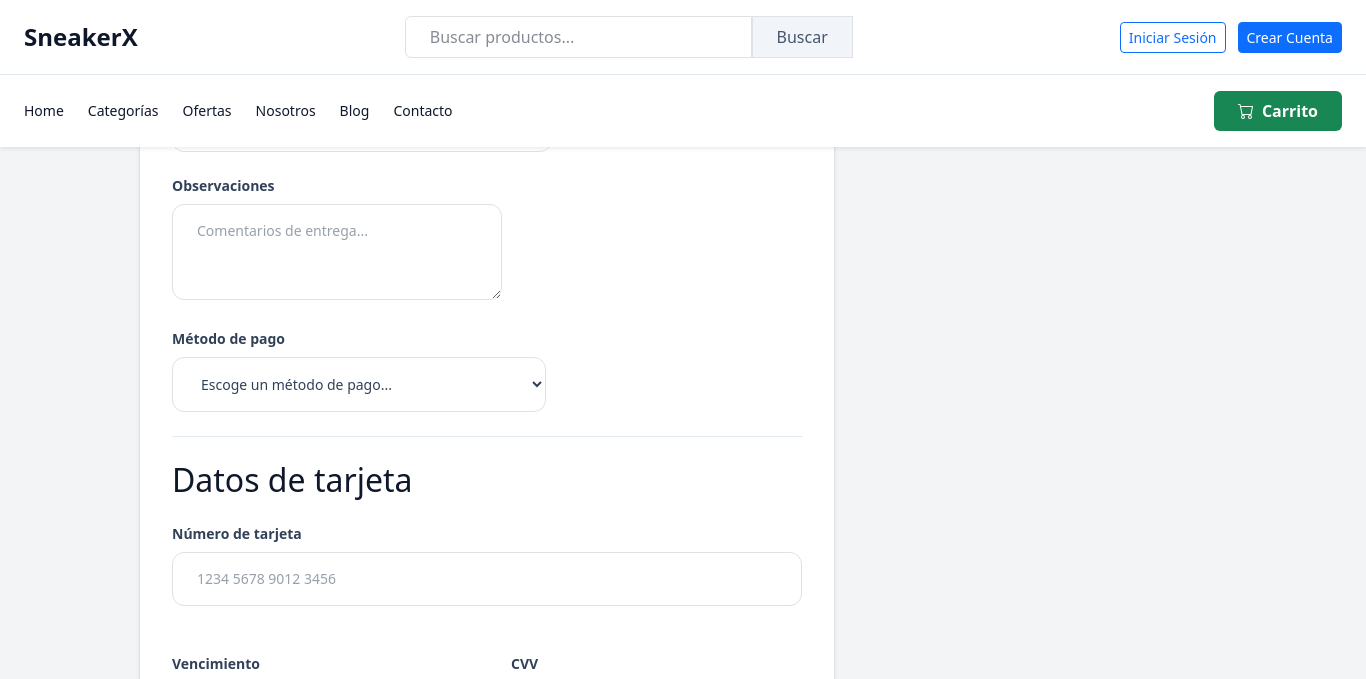
Scenario: pago y boleta › no registra una compra cuando el carrito está vacío
(page scrolled)
Step 1. Select "Débito" in the dropdown labelled "Método de pago" → (359, 385), box [172,357,546,412]
(page scrolled)
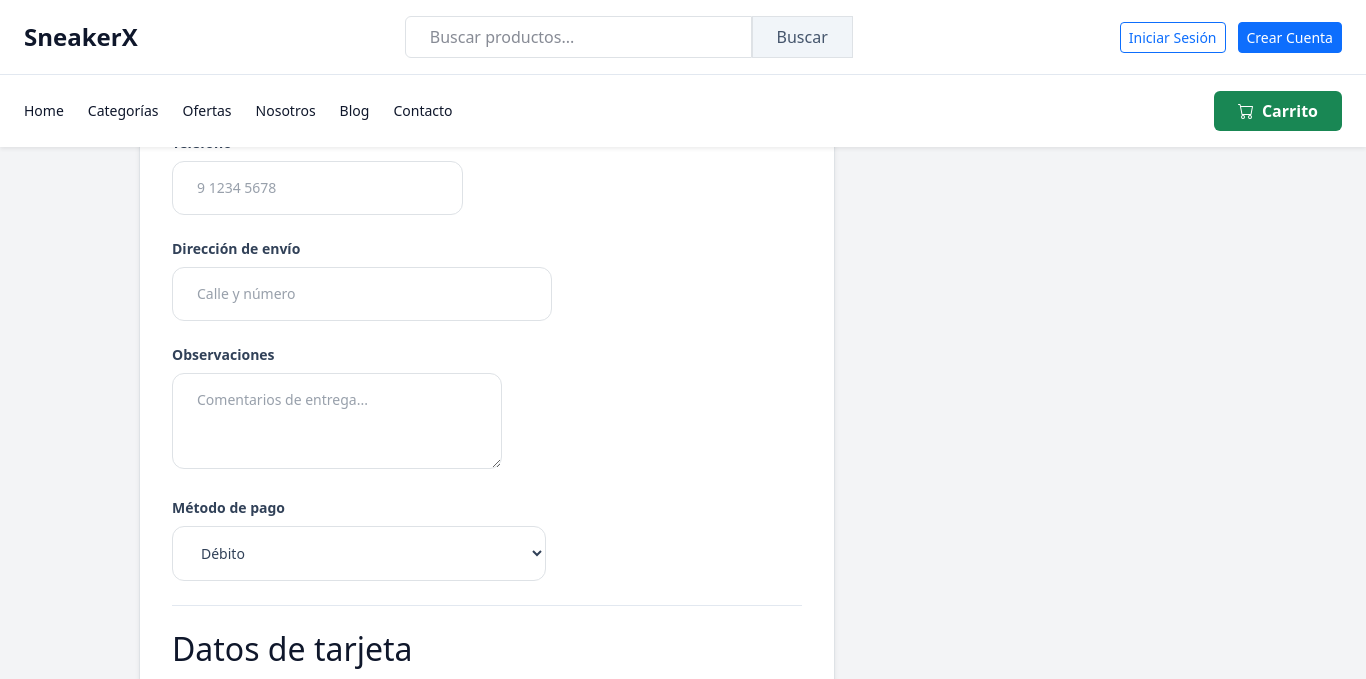
Step 2. Submit the form named "Pagar ahora"
(page scrolled)
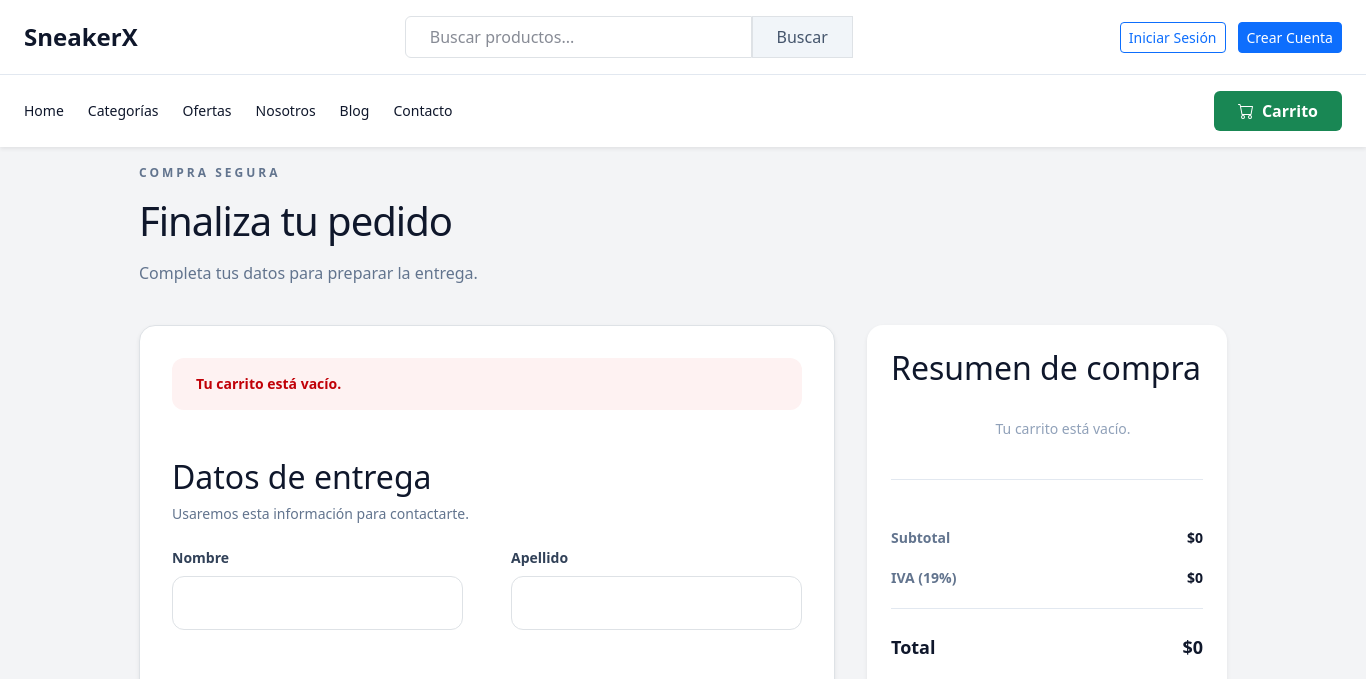
Expected: the message reads "Tu carrito está vacío.", [196,374,341,393]
